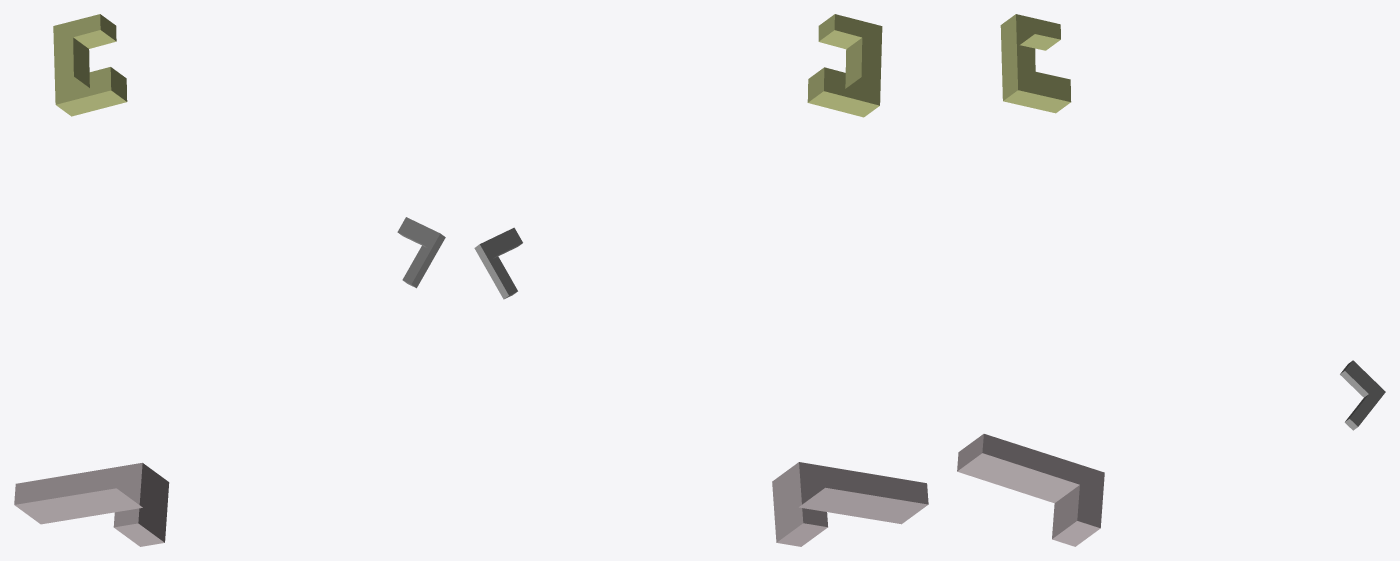
3 views of the same model, side by side, from view 1: azimuth 30°, elevation 25°; view 2: azimuth 150°, elevation 25°; view 3: azimuth 330°, elevation 25° (orthographic). The views are drawn at different scales.
Visible parts, largest first — view 1: 0_3_2_0_2_0_1; view 2: 0_3_2_0_2_0_1; view 3: 0_3_2_0_2_0_1.
Boxes of the visible parts, <box> form: 0_3_2_0_2_0_1: <box>14,14,445,546</box>; 0_3_2_0_2_0_1: <box>474,14,928,546</box>; 0_3_2_0_2_0_1: <box>957,14,1385,546</box>.
Bounding box in the file's own units: 138 × 162 × 15.
